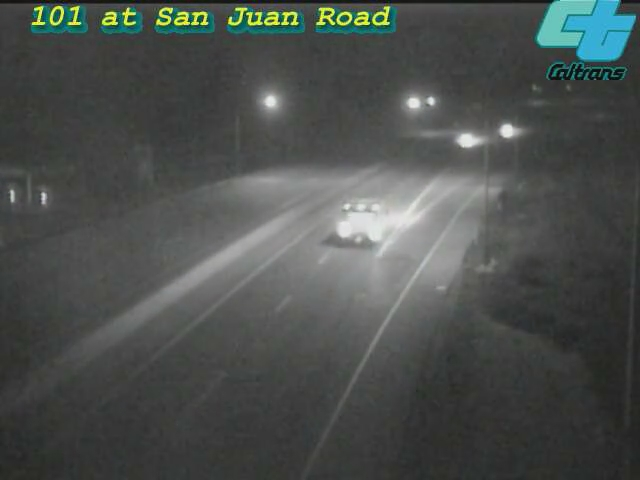vehicle: (316, 193, 396, 273), (479, 107, 529, 157), (442, 115, 492, 165)
